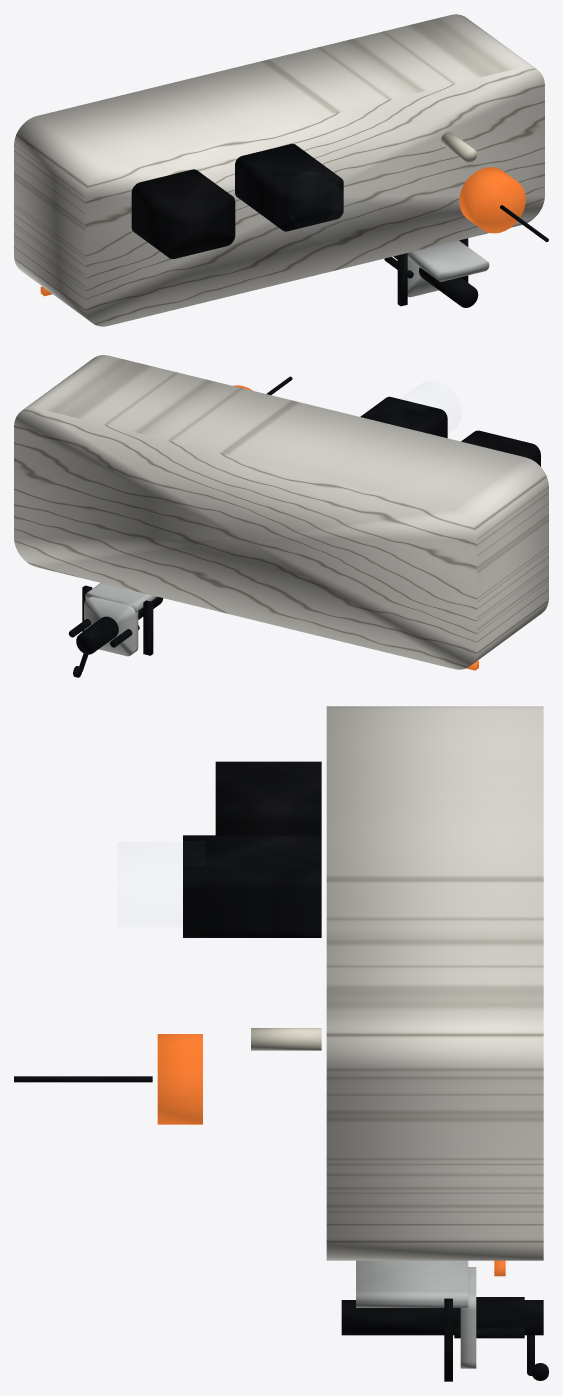
File: HERO_PANTRY_CAFE_V4_001.glb
3 views of the same model, one above another, from view 1: azimuth 30°, elevation 25°; view 2: azimuth 150°, elevation 25°; view 3: azimuth 270°, elevation 25° (orthographic). The views are drawn at different scales.
Visible parts, largest first — view 1: pantry_island, coffee_machine, water_dispenser_mini, pendant_shade, barstool_back, bar_stool_post, barstool_seat, bottle, barstool_arm_l; view 2: pantry_island, water_dispenser_mini, barstool_seat, coffee_machine, bar_stool_post, barstool_back, barstool_arm_l; view 3: pantry_island, water_dispenser_mini, coffee_machine, barstool_back, bar_stool_post, pendant_shade, bottle, barstool_seat, pendant_wire.
Part boxes in pixels (box(x1,y1,x2,y2)): pantry_island: box(14, 14, 544, 326); coffee_machine: box(131, 169, 235, 258); water_dispenser_mini: box(235, 143, 343, 231); pendant_shade: box(459, 167, 525, 233); barstool_back: box(407, 240, 489, 281); bar_stool_post: box(393, 255, 478, 307); barstool_seat: box(407, 258, 438, 297); bottle: box(441, 132, 477, 162); barstool_arm_l: box(397, 253, 407, 306); pantry_island: box(14, 355, 548, 669); water_dispenser_mini: box(360, 396, 447, 438); barstool_seat: box(84, 596, 138, 656); coffee_machine: box(461, 430, 540, 466); bar_stool_post: box(76, 597, 163, 654); barstool_back: box(85, 583, 157, 612); barstool_arm_l: box(143, 600, 153, 655); pantry_island: box(326, 706, 543, 1260); water_dispenser_mini: box(183, 835, 321, 937); coffee_machine: box(215, 761, 321, 835); barstool_back: box(356, 1260, 468, 1307); bar_stool_post: box(341, 1300, 543, 1335); pendant_shade: box(157, 1034, 202, 1124); bottle: box(251, 1028, 321, 1050); barstool_seat: box(460, 1267, 476, 1368); pendant_wire: box(14, 1076, 152, 1082).
Bounding box in the file's own units: 3.2 × 1.72 × 2.12.
7 materials, 7 textured.
